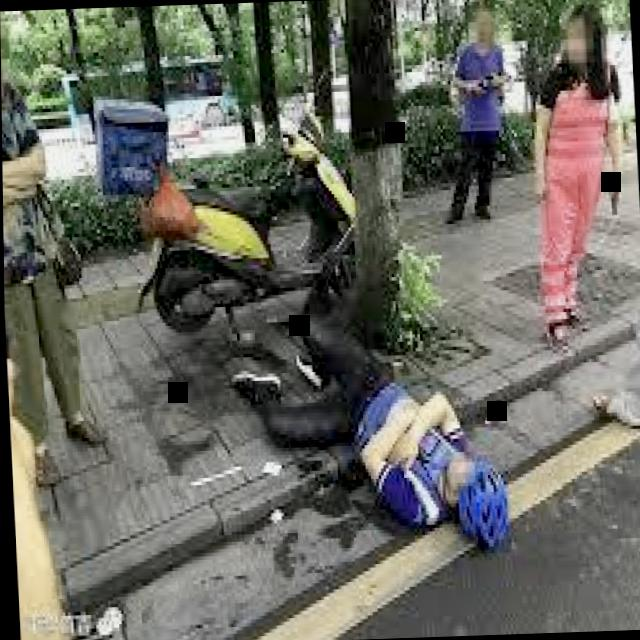Fall-Detected: (216, 300, 527, 558)
